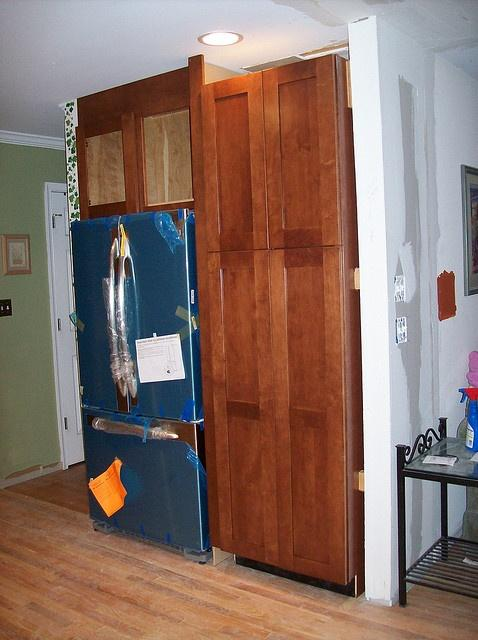Lemari: (197, 53, 356, 595)
